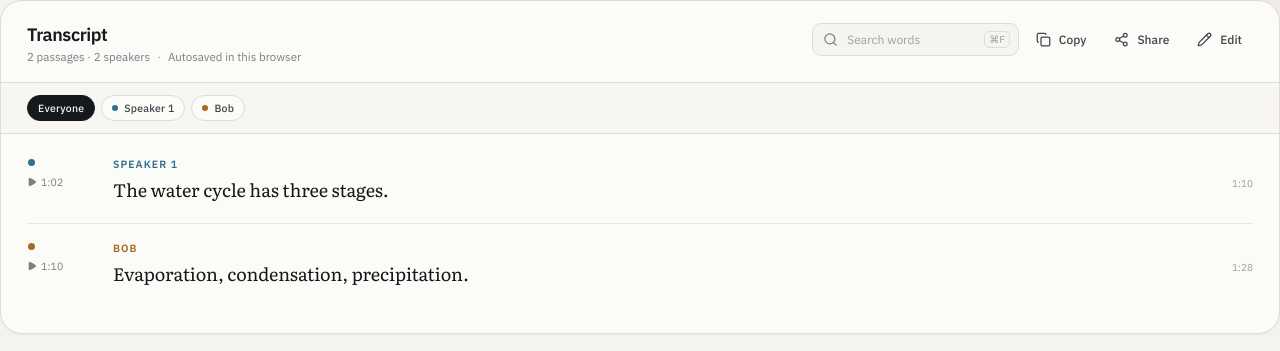
Test: TranscriptView › search matches custom speaker names
This screenshot has width=1280, height=351.
Type "Bob" into the search field at (911, 40), box [845,31,977,48]
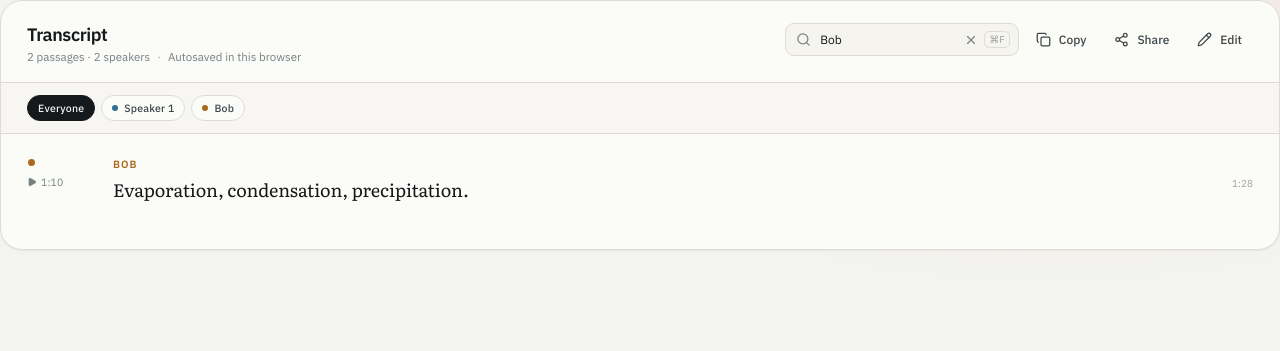
Now the number of elements with class "segment" is 1, box [23,157,1253,203]
